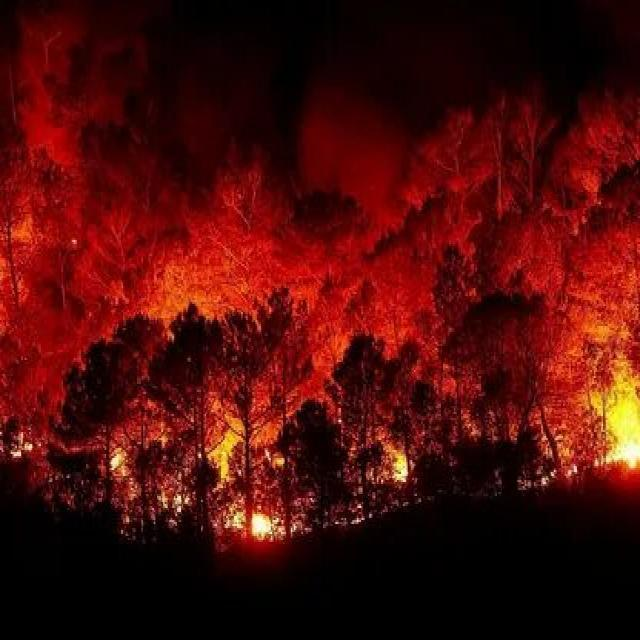Fire: (170, 391, 302, 564), (564, 308, 640, 505)
